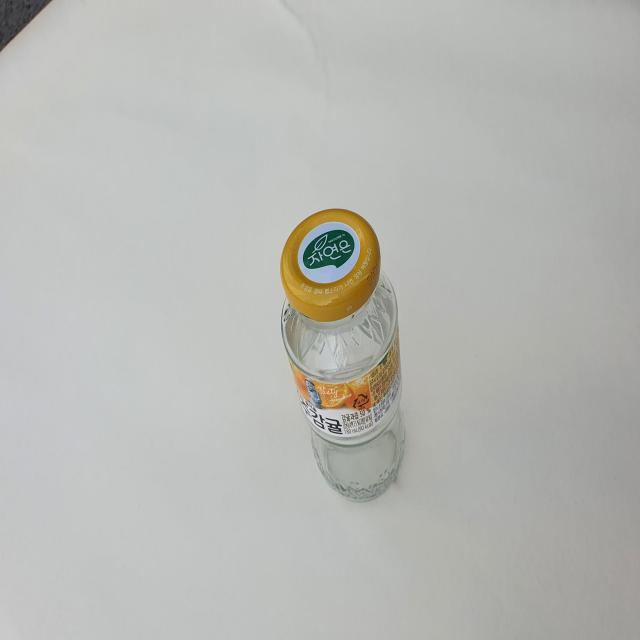glass: (281, 208, 405, 501)
